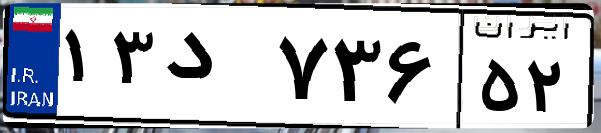1: (57, 26, 110, 100)
2: (525, 38, 570, 115)
3: (330, 28, 385, 110), (110, 28, 158, 98)
5: (475, 38, 525, 113)
6: (385, 28, 445, 110)
7: (270, 28, 330, 110)
د: (158, 20, 270, 120)
